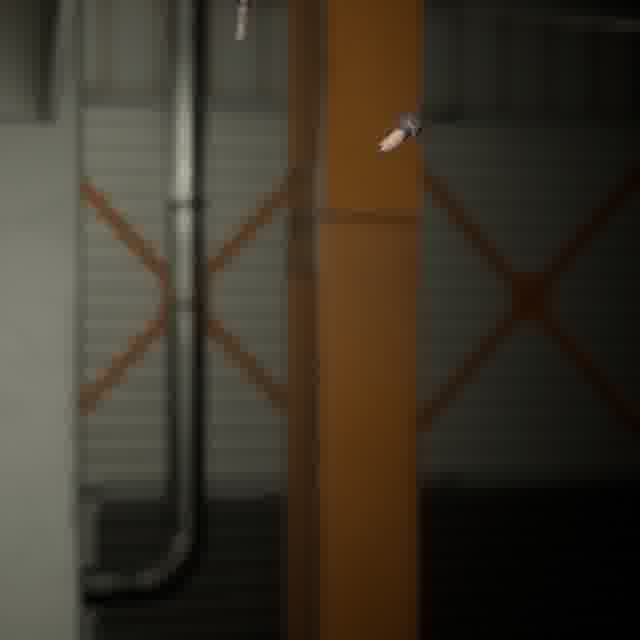bolt: (373, 110, 425, 159)
